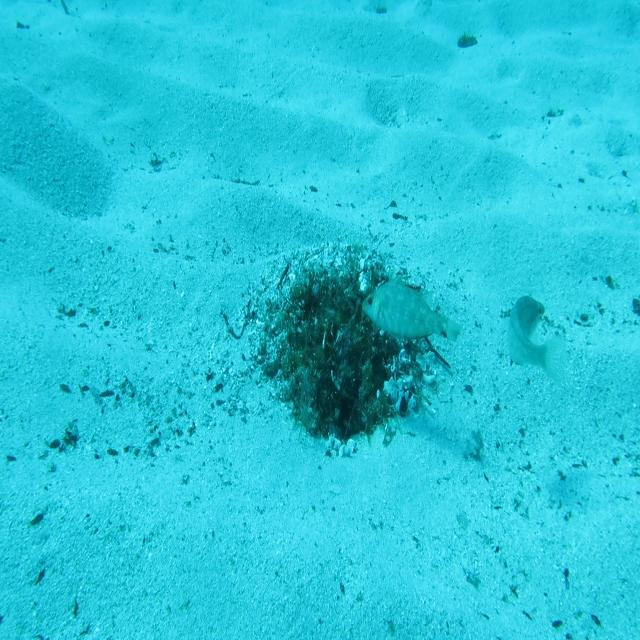ROLL: (361, 265, 464, 349)
core_nest: (315, 290, 364, 322)
female: (489, 290, 567, 392)
nest: (241, 227, 453, 461)
vegetation: (455, 30, 479, 52)
